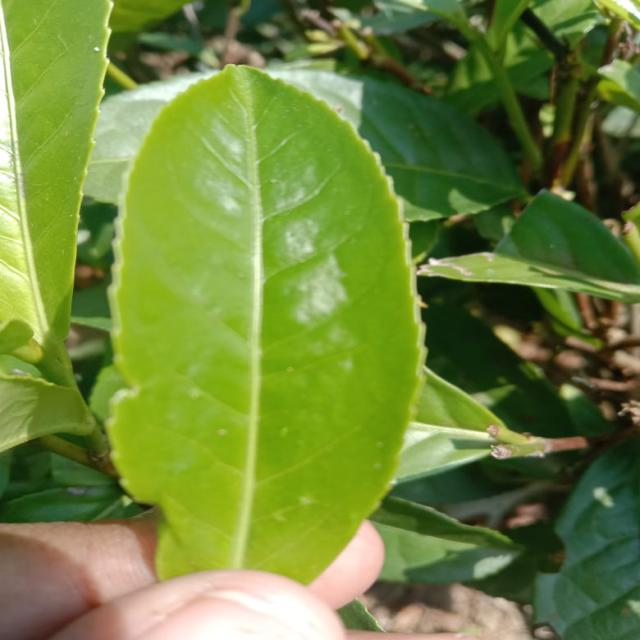Category B 2-4 days: (95, 54, 438, 612)
